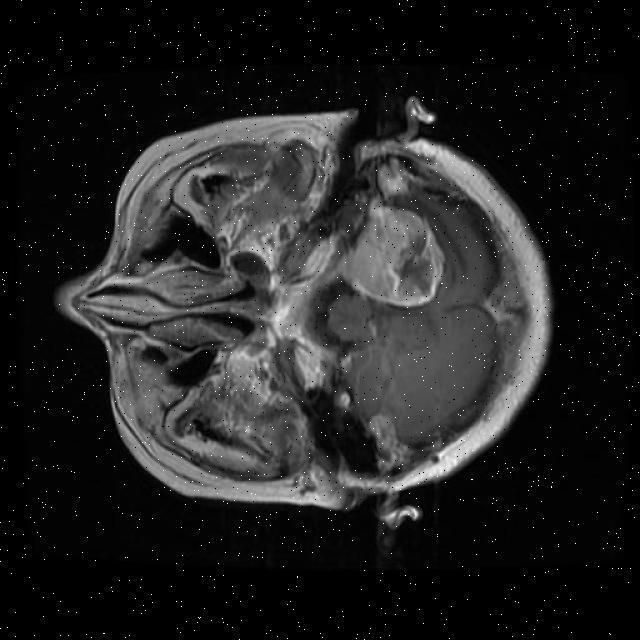Meningioma: (350, 198, 444, 306)
